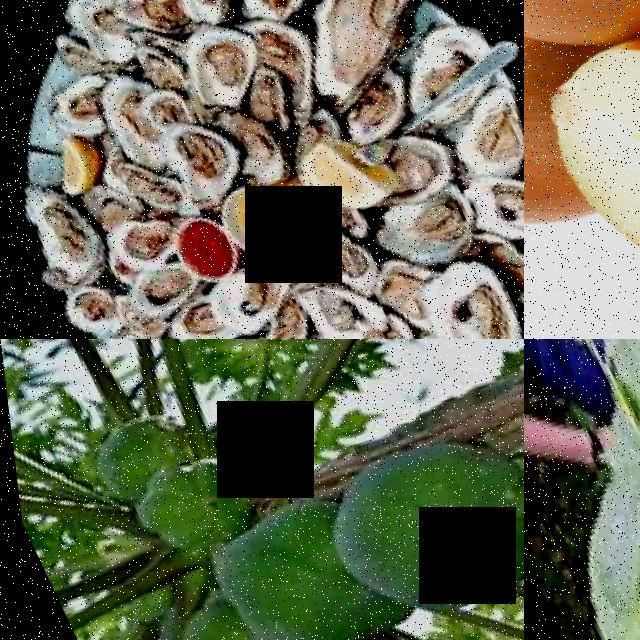lemon: (281, 123, 387, 223)
onion: (524, 0, 640, 328), (524, 0, 584, 267), (524, 0, 640, 97)
oysters: (269, 0, 457, 102), (0, 170, 105, 296), (355, 173, 480, 273), (402, 245, 524, 339), (428, 77, 524, 186), (164, 8, 264, 112), (144, 105, 245, 204), (78, 66, 165, 178), (445, 142, 524, 264), (282, 211, 373, 296), (279, 264, 382, 339), (44, 277, 118, 339), (101, 0, 190, 39), (210, 0, 326, 26), (154, 0, 242, 29), (71, 319, 159, 339)
pawpaw: (292, 404, 524, 637), (183, 487, 378, 640), (107, 436, 268, 563)
